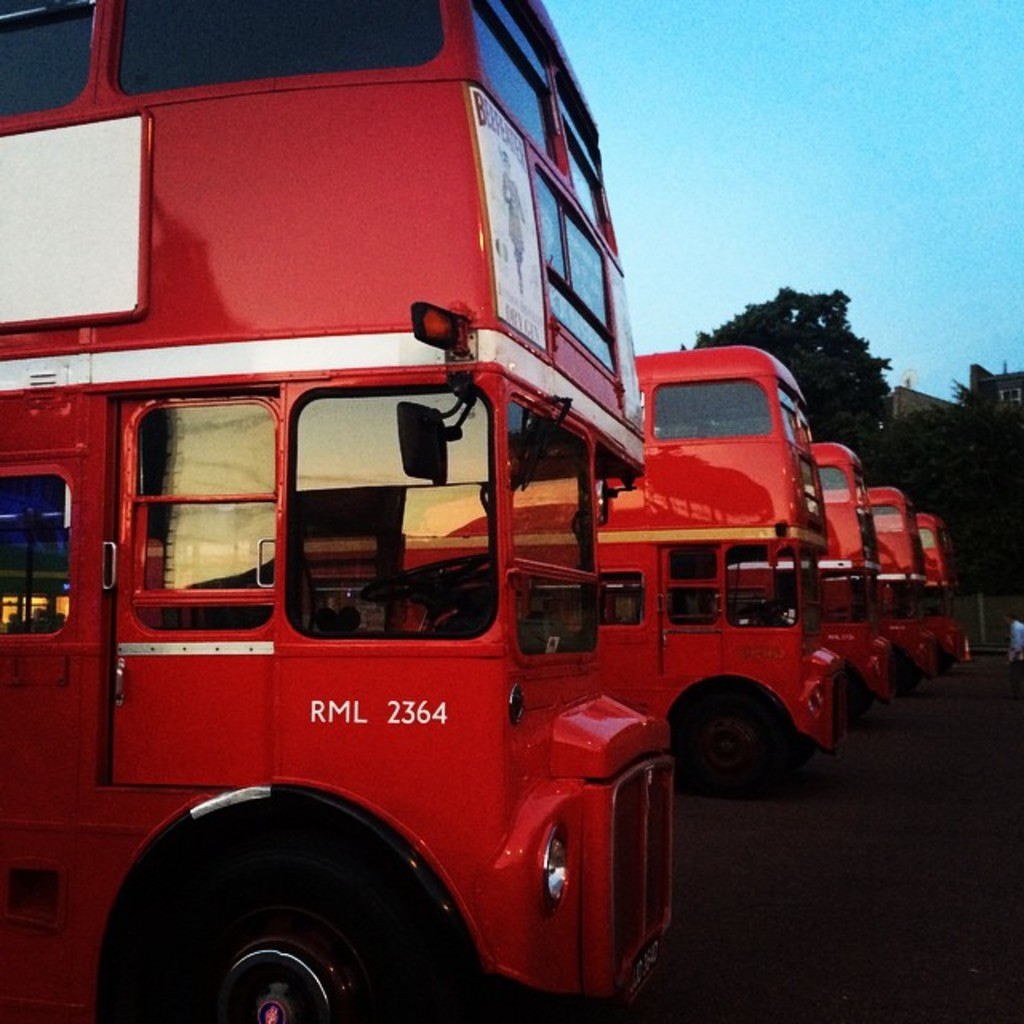Bus: (0, 0, 971, 1024)
